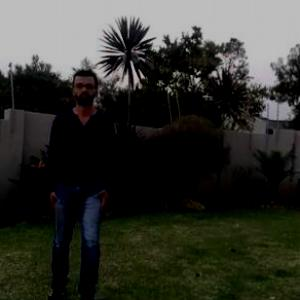follow: (38, 51, 122, 299)
